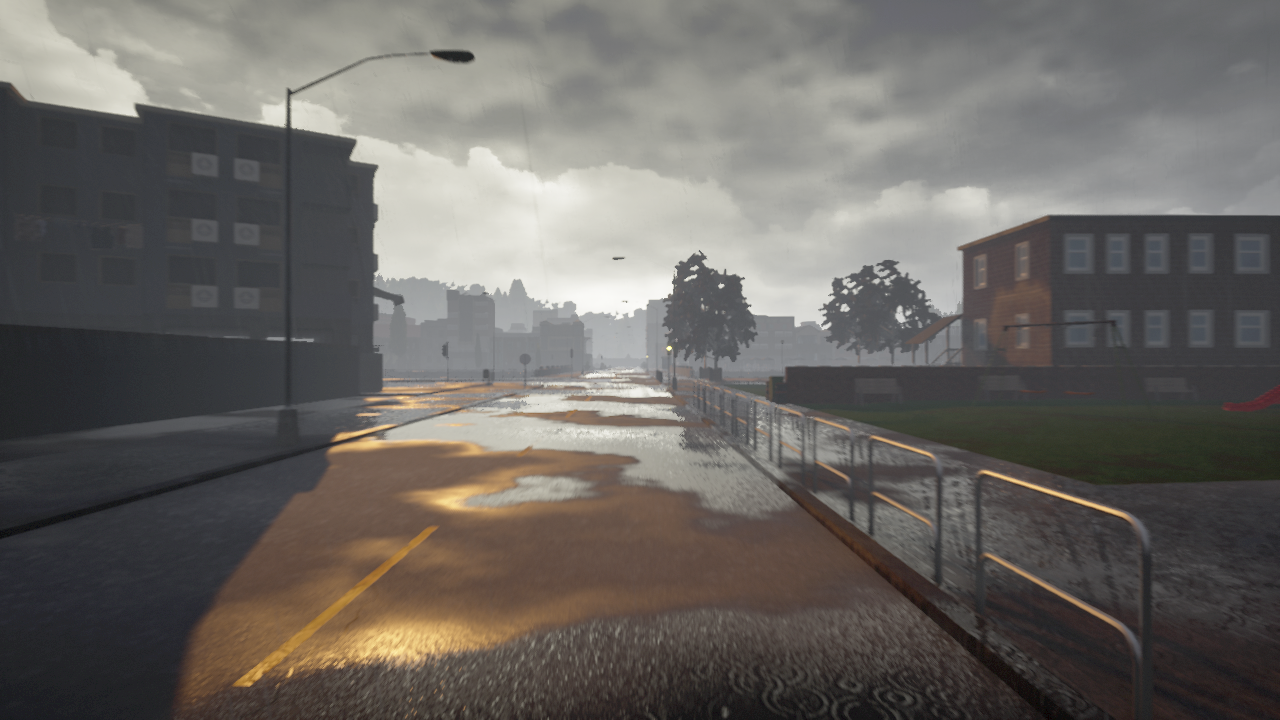yellow: (666, 341, 672, 356)
